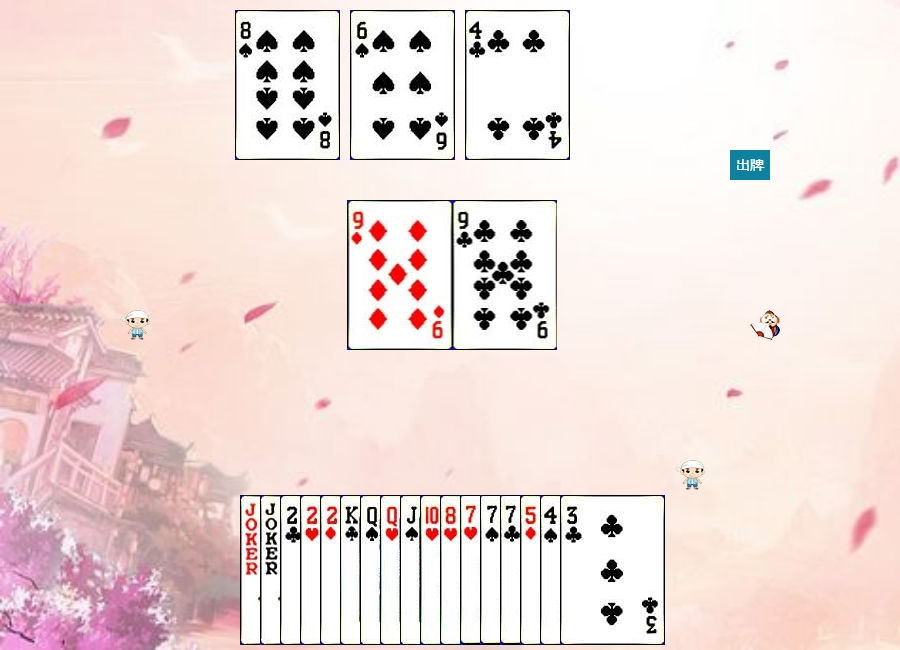10~3: (420, 495, 525, 645)
11~4: (400, 495, 505, 645)
12~3: (380, 495, 485, 645)
12~4: (360, 495, 465, 645)
13~2: (340, 495, 445, 645)
15~1: (320, 495, 425, 645)
15~2: (280, 495, 385, 645)
15~3: (300, 495, 405, 645)
17~3: (260, 495, 365, 645)
18~4: (240, 495, 345, 645)
3~2: (560, 495, 665, 645)
4~2: (465, 10, 570, 160)
4~4: (540, 495, 645, 645)
5~1: (520, 495, 625, 645)
6~4: (350, 10, 455, 160)
7~2: (500, 495, 605, 645)
7~3: (460, 495, 565, 645)
7~4: (480, 495, 585, 645)
8~3: (440, 495, 545, 645)
8~4: (235, 10, 340, 160)
9~1: (348, 200, 453, 350)
9~2: (453, 200, 558, 350)
